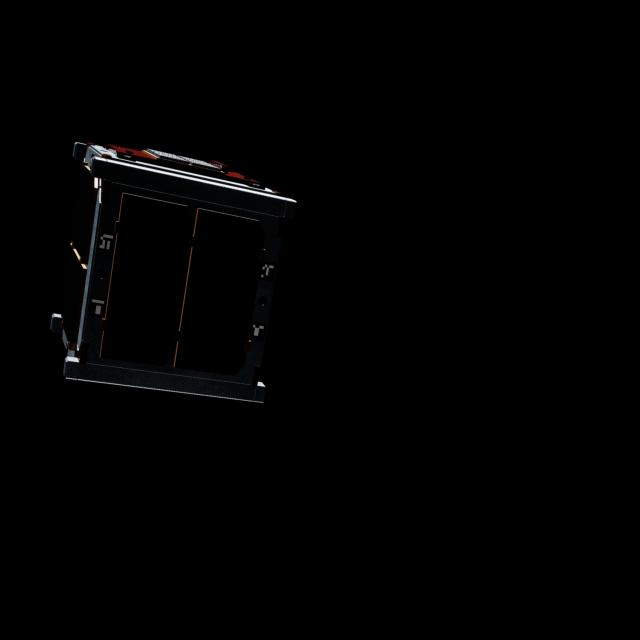satellite: (46, 134, 292, 403)
